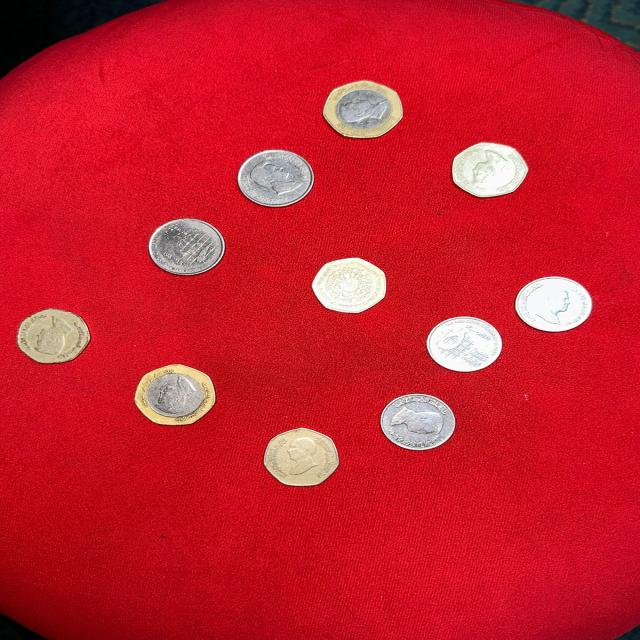10-coins: (237, 148, 316, 208), (147, 218, 228, 276)
25-coins: (262, 428, 342, 488), (451, 141, 530, 200), (310, 256, 389, 314), (15, 308, 93, 364)
5-coins: (514, 276, 595, 332), (425, 315, 504, 372), (381, 394, 456, 451)
50-coins: (131, 363, 217, 426), (322, 81, 404, 139)
